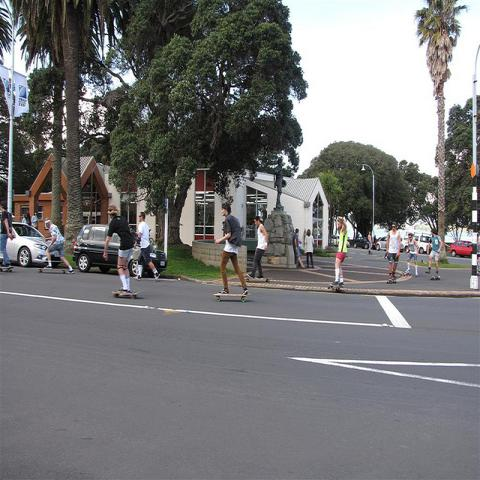car: (73, 225, 168, 276), (4, 220, 49, 265), (450, 240, 473, 258), (414, 233, 432, 254), (353, 238, 371, 249), (375, 236, 387, 250)
